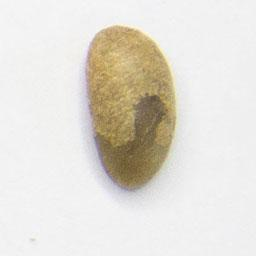longberry: (80, 18, 183, 195)
